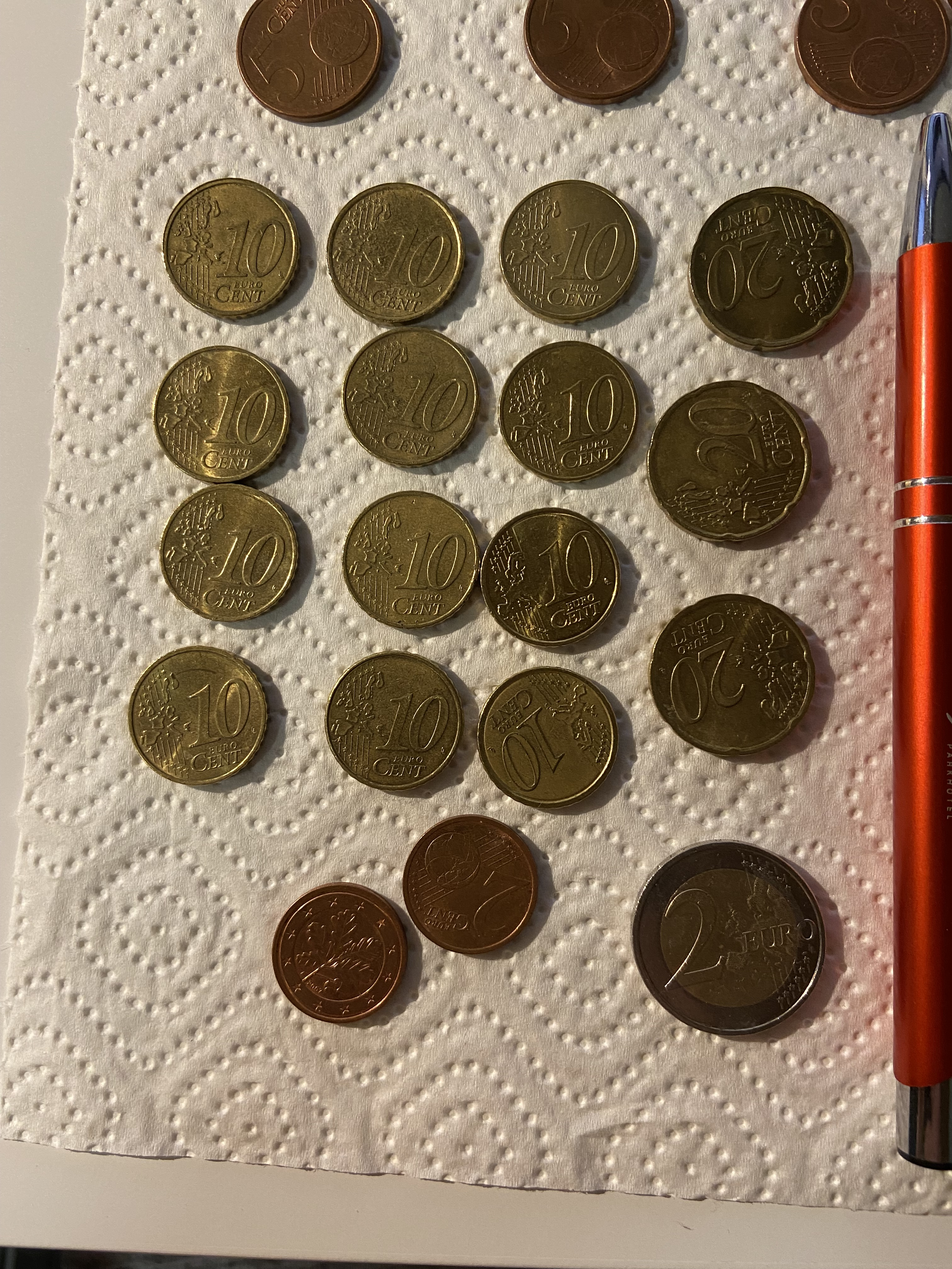10 cent: (157, 173, 302, 326), (337, 325, 482, 470), (324, 183, 469, 327), (497, 178, 642, 322), (498, 339, 643, 483), (152, 343, 297, 487), (156, 481, 301, 625), (335, 488, 480, 632), (479, 506, 624, 650), (477, 665, 622, 809), (320, 646, 465, 790), (128, 644, 273, 788)
2 cent: (400, 814, 541, 960), (273, 880, 414, 1026)
2 euro: (627, 832, 833, 1038)
20 cent: (687, 184, 858, 357), (648, 378, 818, 552), (648, 587, 818, 760)
5 cent: (234, 0, 387, 124), (793, 0, 951, 117), (523, 0, 675, 108)
